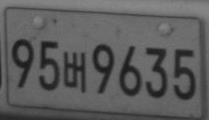3: (145, 46, 168, 99)
5: (173, 48, 197, 101), (38, 41, 60, 90)
6: (118, 45, 142, 97)
9: (10, 38, 34, 88), (91, 42, 114, 93)
버: (62, 51, 86, 92)
